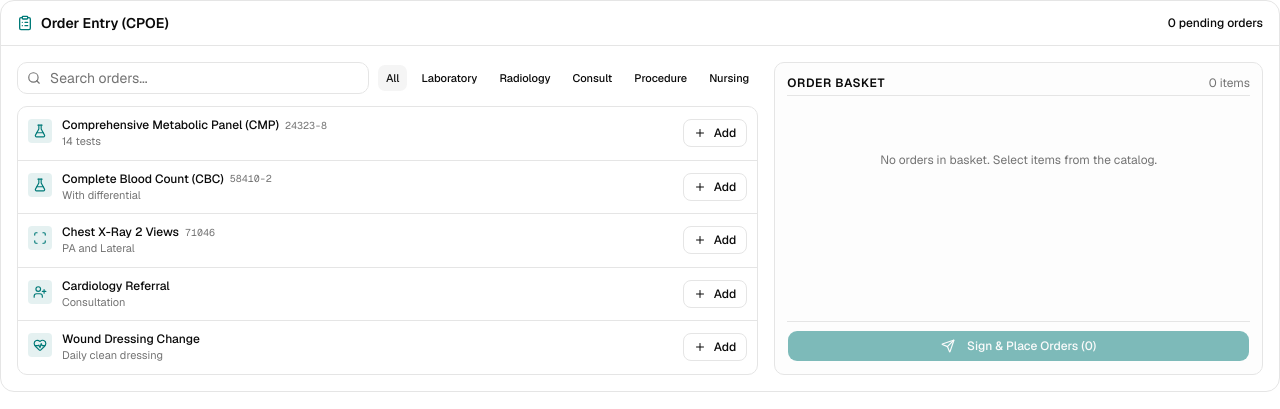
OrderEntry component › adds order to basket when clicking add button
The width and height of the screenshot is (1280, 409).
Click the button with aria-label "Add to basket": (715, 133) [683,119,747,147]
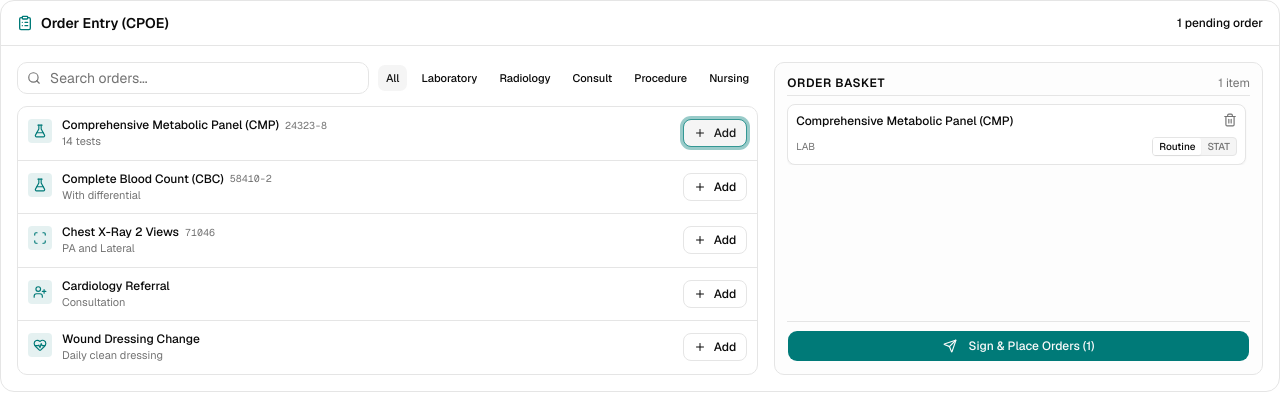
Now the text "1 pending order" is shown, box [1177,15,1263,31]
